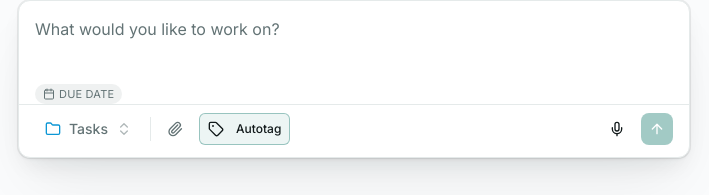
SmartParsingToggle Integration › shows "Autotag" label when toggle is pressed
Check: the text "Autotag" is shown, box [236,121,281,137]
Click to turn off
Click the button with aria-label "smart parsing" at (245, 129), box [199,113,290,145]
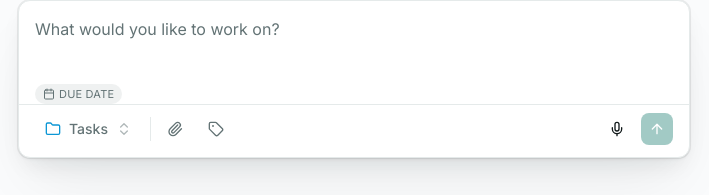
Check: the text "Autotag" is gone
